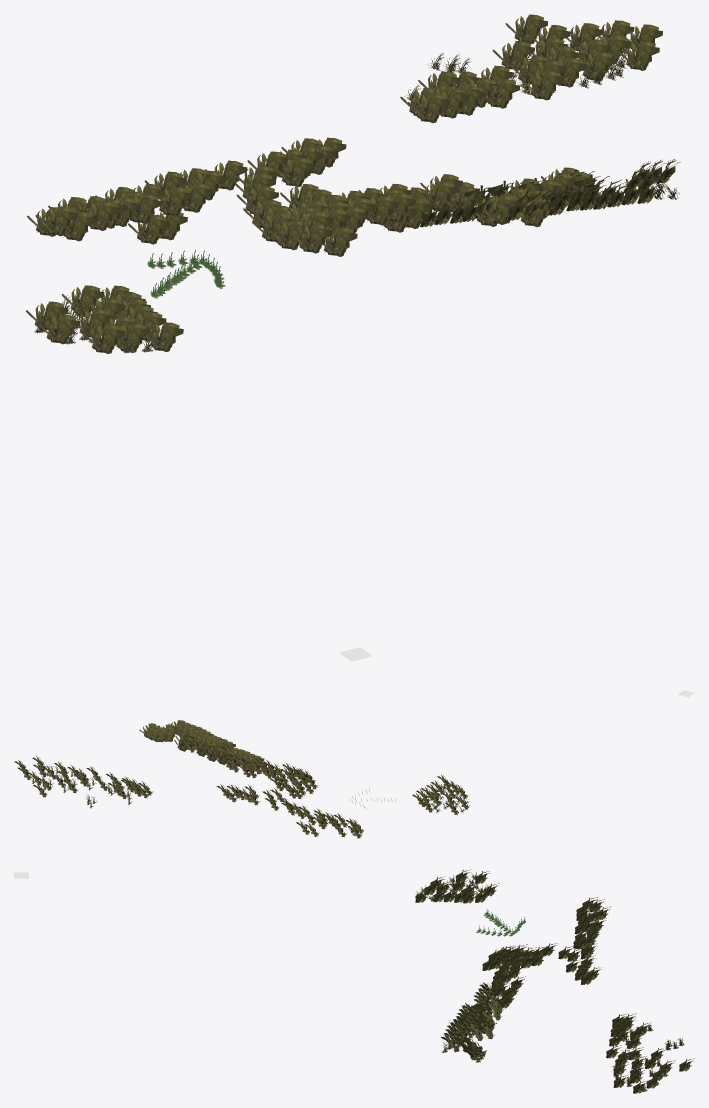
Rendered from Foliage0.FBX.
3 views of the same model, one above another, from view 1: azimuth 30°, elevation 25°; view 2: azimuth 150°, elevation 25°; view 3: azimuth 270°, elevation 25° (orthographic). The views are drawn at different scales.
Parts seen in each view (by area): view 1: Foliage0; view 2: Foliage0; view 3: Foliage0.
Part boxes in pixels (x1,y1,x2,y2): Foliage0: (26, 14, 680, 661); Foliage0: (14, 690, 694, 838); Foliage0: (14, 869, 694, 1093).
Size of the model in its own units: 3844 by 4569 by 263.
